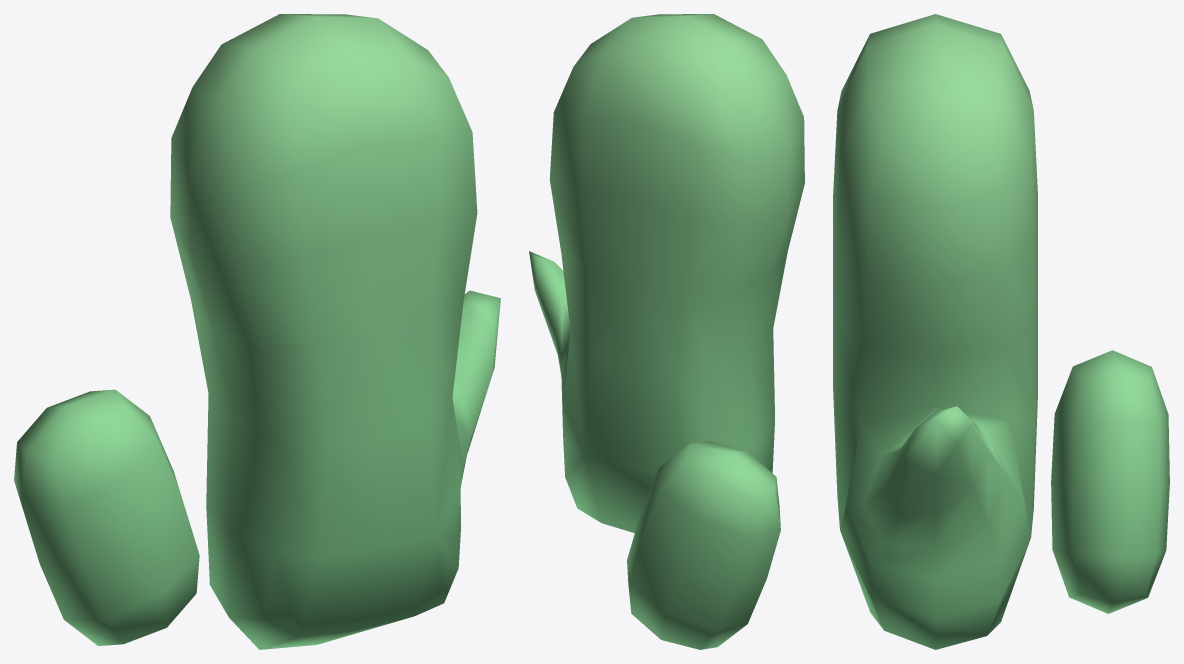
Rendered from Grass.fbx.
3 views of the same model, side by side, from view 1: azimuth 30°, elevation 25°; view 2: azimuth 150°, elevation 25°; view 3: azimuth 270°, elevation 25° (orthographic). The views are drawn at different scales.
Visible parts, largest first — view 1: grass; view 2: grass; view 3: grass.
Boxes of the visible parts, left/top/right/bottom form: grass: left=14, top=14, right=500, bottom=649; grass: left=529, top=14, right=804, bottom=649; grass: left=833, top=14, right=1169, bottom=649.
Size of the model in its own units: 0.2575 by 0.4168 by 0.2032.
